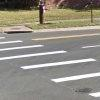Crosswalk: (7, 32, 100, 95)
